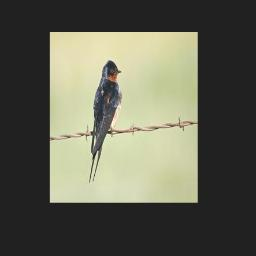Swallow: (87, 58, 122, 183)
